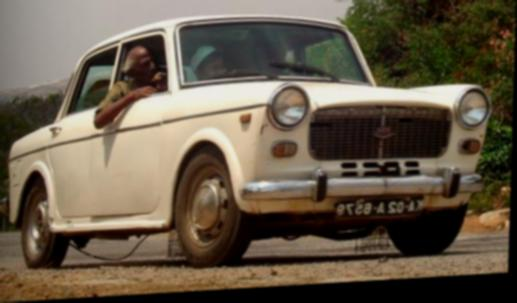License_Plate: (296, 178, 441, 227)
